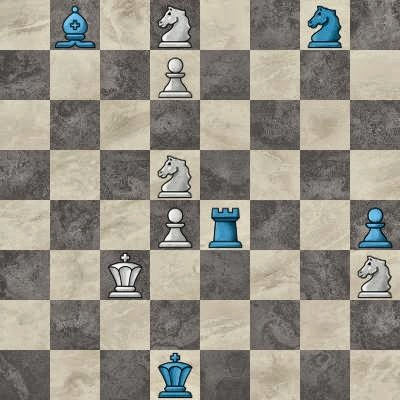black-bishop: (50, 0, 100, 50)
black-king: (150, 350, 200, 400)
black-knight: (300, 0, 350, 50)
black-pawn: (350, 200, 400, 250)
black-rook: (200, 200, 250, 250)
white-king: (100, 250, 150, 300)
white-knight: (150, 0, 200, 50), (150, 150, 200, 200), (350, 250, 400, 300)
white-pawn: (150, 50, 200, 100), (150, 200, 200, 250)
